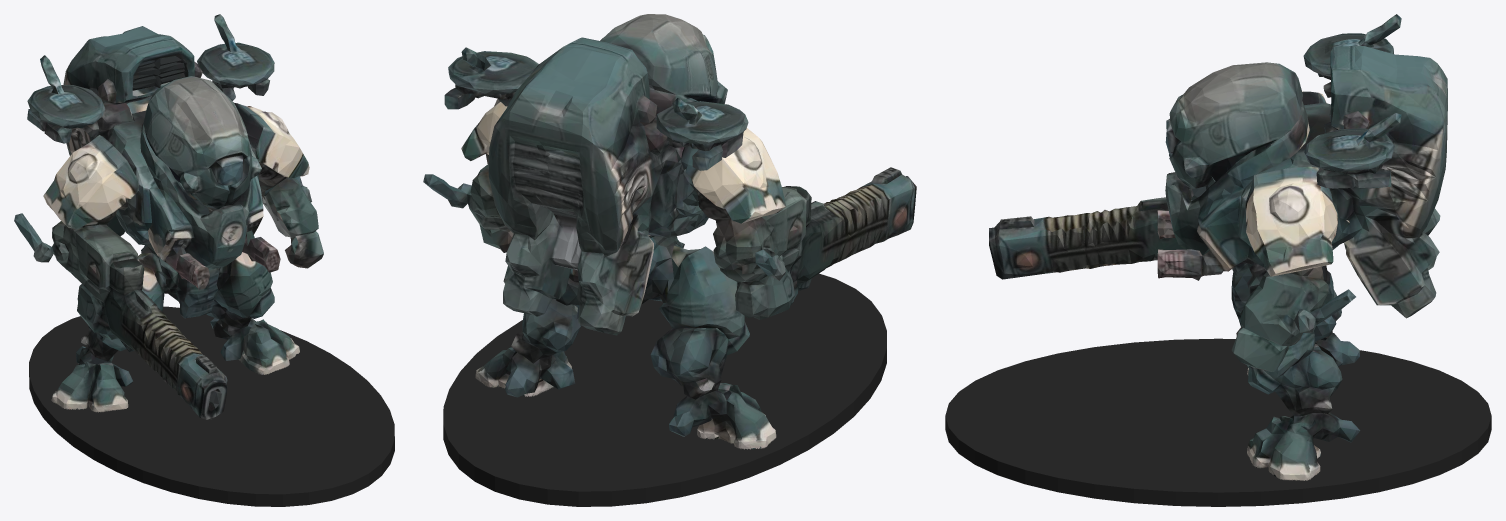
Rendered from ghostkeel.glb.
3 renders of one model, left to right at view 1: azimuth 30°, elevation 25°; view 2: azimuth 150°, elevation 25°; view 3: azimuth 270°, elevation 25°, orthographic. The views are drawn at different scales.
Parts seen in each view (by area): view 1: figure, base; view 2: figure, base; view 3: figure, base.
Part boxes in pixels (bbox=[...]): figure: bbox=[14, 14, 323, 419]; base: bbox=[29, 306, 394, 506]; figure: bbox=[423, 14, 916, 449]; base: bbox=[443, 273, 886, 506]; figure: bbox=[989, 14, 1447, 480]; base: bbox=[945, 338, 1491, 506].
Size of the model in its own units: 2.81 by 3.12 by 4.13.
2 materials, 1 textured.
